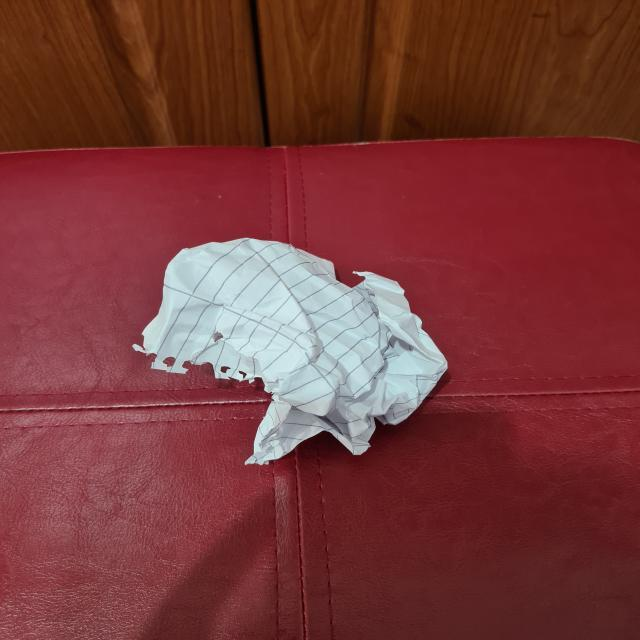Paper: (139, 239, 447, 468)
